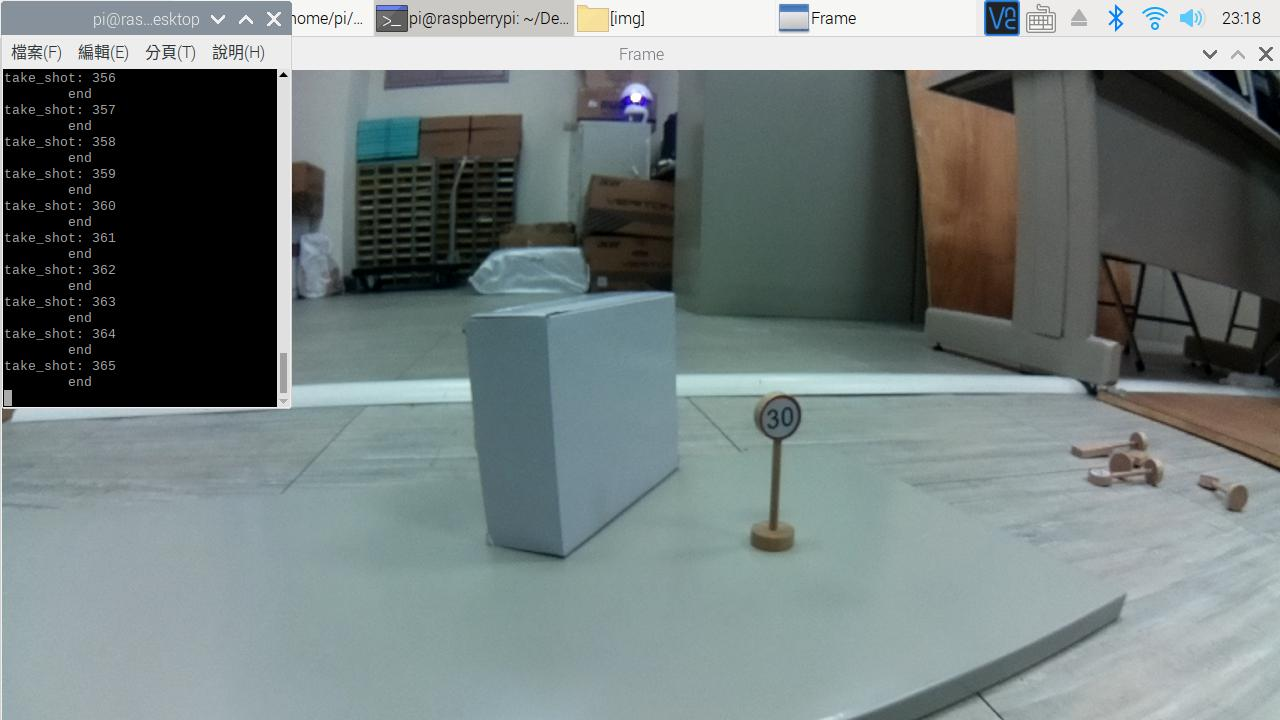Speed30: (744, 378, 821, 462)
